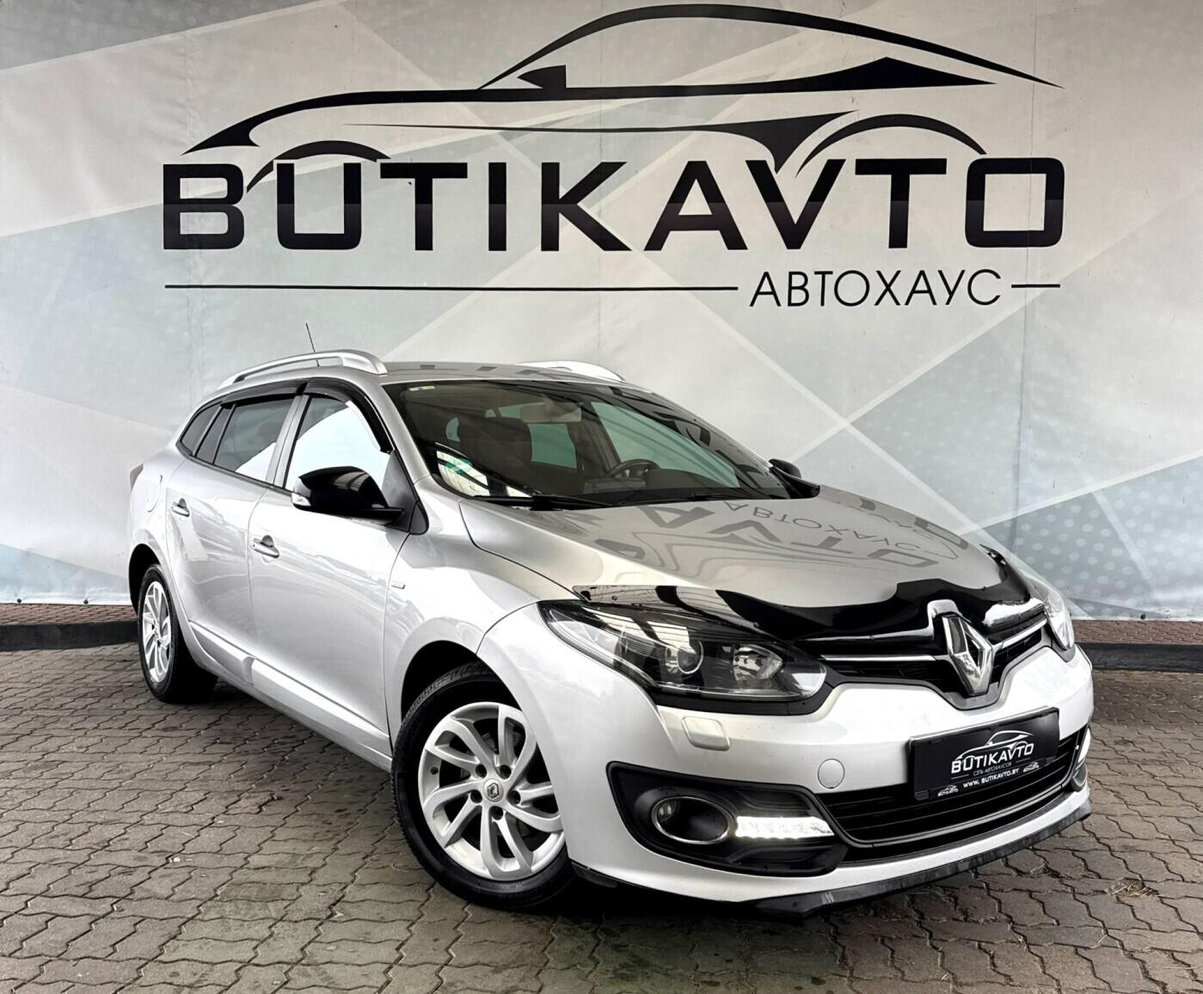Megane_2014-2016: (120, 343, 1112, 923)
